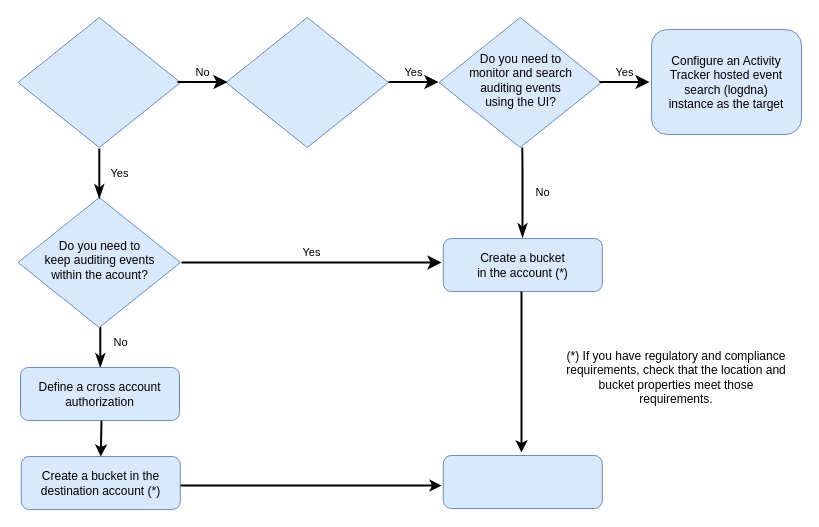
Image size: 819x527. Some labels were removed from this diagram. Each missing label, with the centre of its shape:
Configure the bucket as the target in the account: (522,481)
Do you need to be Financial Services Validated?: (98,82)
Do you need to keep auditing events within the account?: (306,82)
